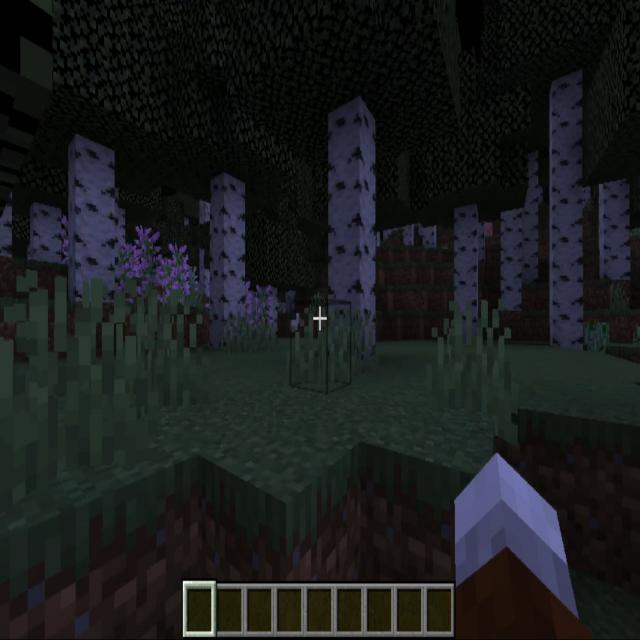Chicken: (289, 311, 301, 336)
Creeper: (582, 320, 610, 412)
Pig: (483, 221, 494, 239)
